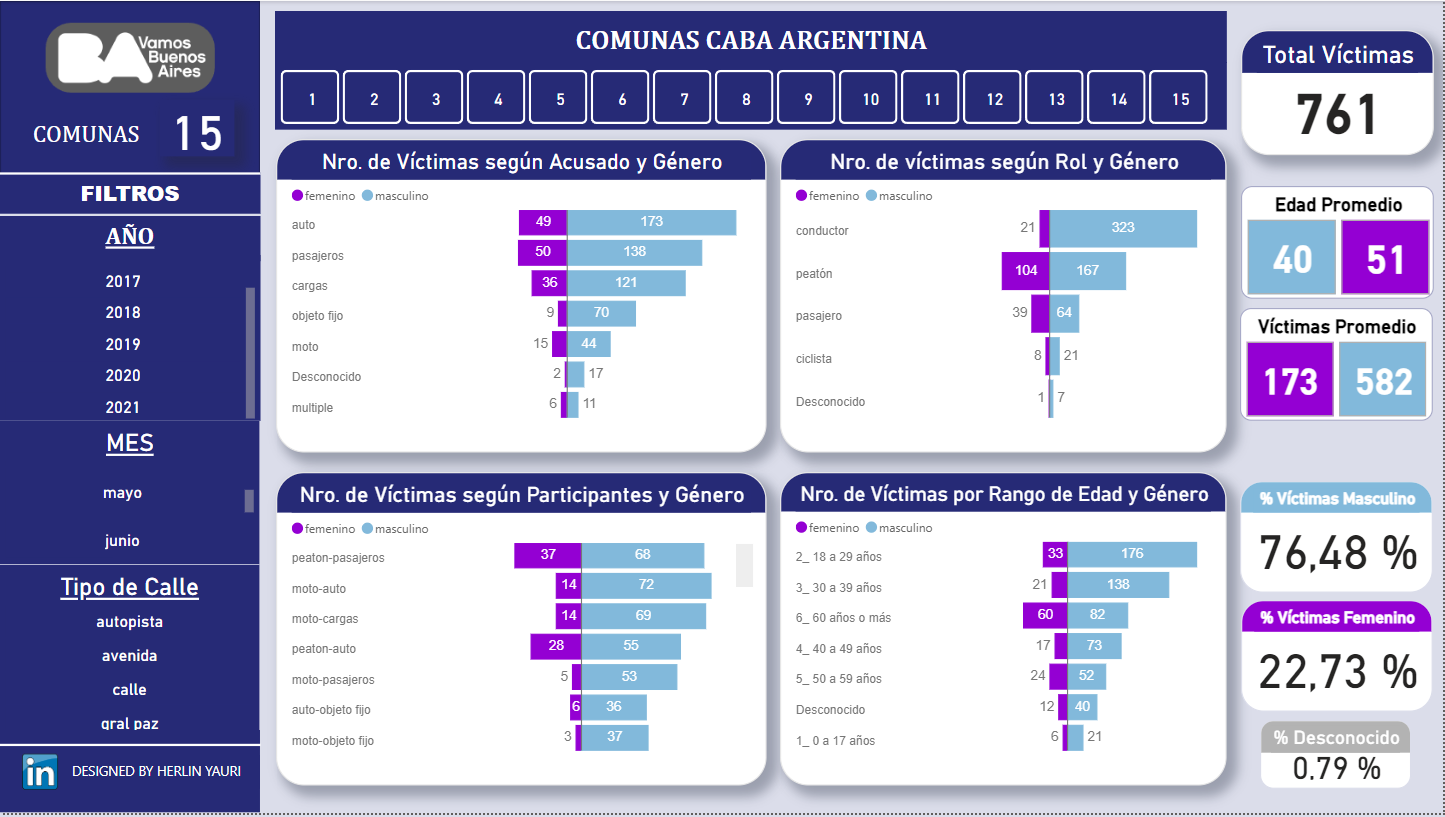

The dashboard page shown, as its layout file describes it:
{"tool":"powerbi","page":{"name":"Análisis por Sexo","canvas":[1280,720],"ordinal":2},"visuals":[{"type":"advancedSlicerVisual","title":" _AÑO_","fields":{"Values":["DimTiempo.Año"]},"box":[0,225.4,231.2,147.3],"z":0},{"type":"advancedSlicerVisual","title":"MES","fields":{"Values":["DimTiempo.Nombre del mes"]},"box":[0,372.7,230.2,126.8],"z":1000},{"type":"advancedSlicerVisual","title":"Tipo de Calle","fields":{"Values":["DimTipoCalle.tipo_calle"]},"box":[0,500,230,160],"z":2000},{"type":"shape","box":[0,646.8,230.5,72.9],"z":3000},{"type":"image","box":[11.7,662.4,47.7,41.8],"z":4000},{"type":"textbox","box":[58.4,668.2,172.2,30.2],"z":5000},{"type":"shape","box":[0,637,231,46],"z":6000},{"type":"textbox","box":[0,151.7,230.5,37],"z":7000},{"type":"shape","box":[0,0,230.5,153.4],"z":8000},{"type":"card","title":"Total Víctimas","fields":{"Values":["DimAcusado.Total Víctimas"]},"box":[1100.6,25.8,170.5,111],"z":9000},{"type":"image","box":[35.5,13.6,160,74.5],"z":10000},{"type":"card","fields":{"Values":["DimAcusado.Cant_Comunas"]},"box":[141.8,88.2,66.4,50],"z":11000},{"type":"textbox","box":[23.6,100.9,113.6,40.9],"z":12000},{"type":"shape","box":[0,146.3,231.4,13.3],"z":13000},{"type":"advancedSlicerVisual","title":"COMUNAS CABA","fields":{"Values":["DimComuna.CODCOM"]},"box":[243.8,54.1,844.1,60.3],"z":14000},{"type":"textbox","box":[243.8,8.9,844.1,46.1],"z":15000},{"type":"textbox","box":[0,190.6,230.5,39.9],"z":16000},{"type":"TornadoChart1452517688218","title":"Nro. de Víctimas según Acusado y Género","fields":{"Category":["DimAcusado.acusado"],"Values":["DAX.Total Víctimas"],"Series":["FacDB.sexo_victima"]},"box":[245.1,122,434.7,278.4],"z":17000},{"type":"TornadoChart1452517688218","title":"Nro. de Víctimas según Participantes y Género","fields":{"Values":["DAX.Total Víctimas"],"Series":["FacDB.sexo_victima"],"Category":["FacDB.participantes"]},"box":[245.1,417.6,434.7,278.4],"z":18000},{"type":"TornadoChart1452517688218","title":"Nro. de víctimas según Rol y Género","fields":{"Values":["DAX.Total Víctimas"],"Series":["FacDB.sexo_victima"],"Category":["FacDB.rol"]},"box":[691.9,122,396.4,278.4],"z":19000},{"type":"TornadoChart1452517688218","title":"Nro. de Víctimas por Rango de Edad y Género","fields":{"Values":["DAX.Total Víctimas"],"Series":["FacDB.sexo_victima"],"Category":["FacDB.RANGO_ETARIO"]},"box":[691.9,417.6,396.4,278.4],"z":20000},{"type":"cardVisual","title":"Edad Promedio","fields":{"Data":["DAX.Edad Promedio Masculino","DAX.Edad Promedio Femenino"]},"box":[1100,164.2,171.4,100.4],"z":21000},{"type":"cardVisual","title":"Víctimas Promedio","fields":{"Data":["DAX.Total_Victimas_Femenino","DAX.Total_Victimas_Masculino"]},"box":[1099.7,271.8,170.5,100.4],"z":22000},{"type":"card","title":"% Víctimas Masculino","fields":{"Values":["DAX.% Victimas Masculino"]},"box":[1099.7,425.5,171.4,98.6],"z":23000},{"type":"card","title":"% Víctimas Femenino","fields":{"Values":["DAX.%_Victimas_Femenino"]},"box":[1100.6,531.2,169.7,99.5],"z":24000},{"type":"card","title":"% Desconocido","fields":{"Values":["DAX.Total_Victimas_Des"]},"box":[1117.6,637.5,134.2,60.5],"z":25000}]}

Visuals, with their boxes in screenshot pixels (x1, y1, x2, y2), scaled from the page's 1280x720 canvas onto the 1445x817 screenshot:
" _AÑO_" advancedSlicerVisual: rect(0, 256, 261, 423)
"MES" advancedSlicerVisual: rect(0, 423, 260, 567)
"Tipo de Calle" advancedSlicerVisual: rect(0, 567, 260, 749)
shape: rect(0, 734, 260, 816)
image: rect(13, 752, 67, 799)
textbox: rect(66, 758, 260, 792)
shape: rect(0, 723, 261, 775)
textbox: rect(0, 172, 260, 214)
shape: rect(0, 0, 260, 174)
"Total Víctimas" card: rect(1242, 29, 1435, 155)
image: rect(40, 15, 221, 100)
card - DimAcusado.Cant_Comunas: rect(160, 100, 235, 157)
textbox: rect(27, 114, 155, 161)
shape: rect(0, 166, 261, 181)
"COMUNAS CABA" advancedSlicerVisual: rect(275, 61, 1228, 130)
textbox: rect(275, 10, 1228, 62)
textbox: rect(0, 216, 260, 262)
"Nro. de Víctimas según Acusado y Género" TornadoChart1452517688218: rect(277, 138, 767, 454)
"Nro. de Víctimas según Participantes y Género" TornadoChart1452517688218: rect(277, 474, 767, 790)
"Nro. de víctimas según Rol y Género" TornadoChart1452517688218: rect(781, 138, 1229, 454)
"Nro. de Víctimas por Rango de Edad y Género" TornadoChart1452517688218: rect(781, 474, 1229, 790)
"Edad Promedio" cardVisual: rect(1242, 186, 1435, 300)
"Víctimas Promedio" cardVisual: rect(1241, 308, 1434, 422)
"% Víctimas Masculino" card: rect(1241, 483, 1435, 595)
"% Víctimas Femenino" card: rect(1242, 603, 1434, 716)
"% Desconocido" card: rect(1262, 723, 1413, 792)
